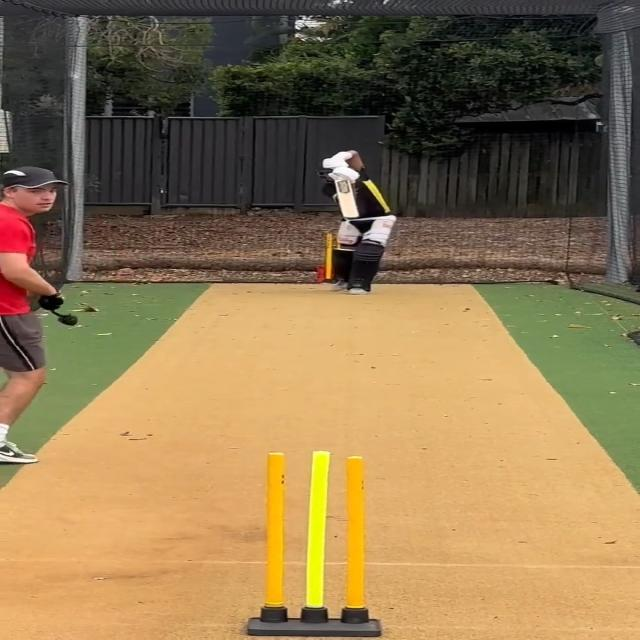stump: (250, 449, 380, 637)
